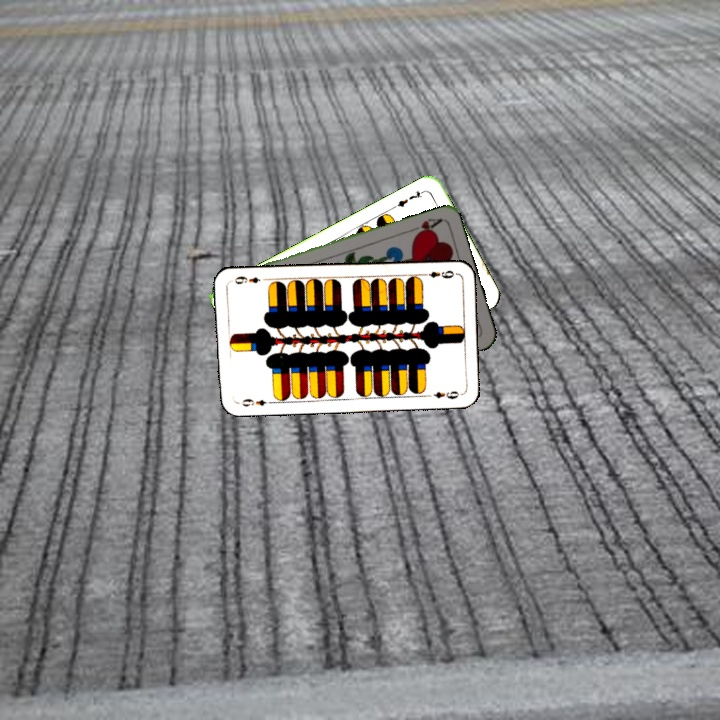E7: (390, 186, 428, 211)
E9: (418, 266, 458, 281), (233, 395, 274, 409)
HA: (405, 214, 445, 239)
